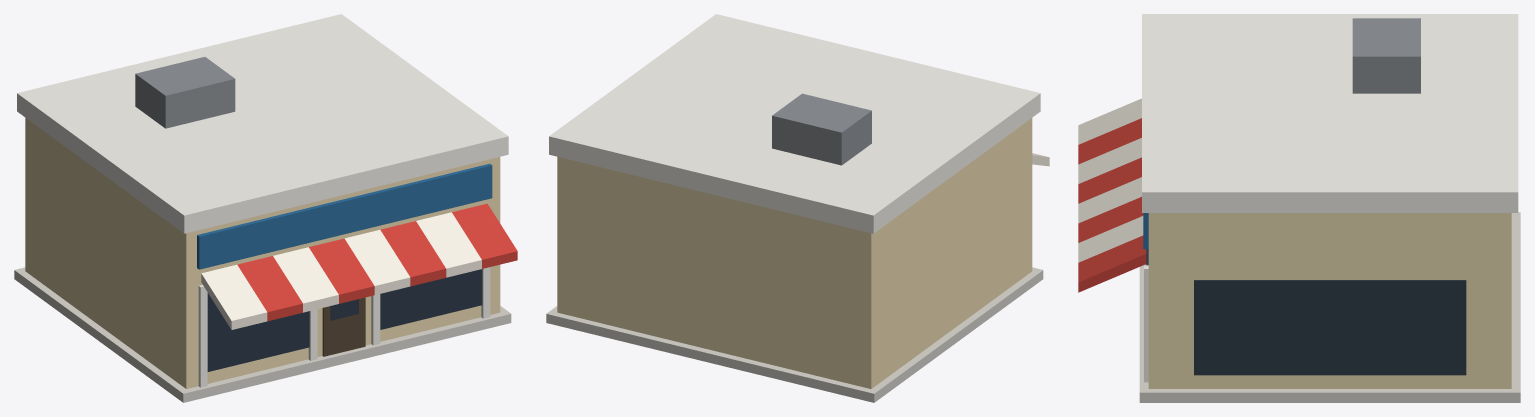
File: corner-shop.glb
3 views of the same model, side by side, from view 1: azimuth 30°, elevation 25°; view 2: azimuth 150°, elevation 25°; view 3: azimuth 270°, elevation 25° (orthographic). The views are drawn at different scales.
Visible parts, largest first — view 1: Corner_Shop; view 2: Corner_Shop; view 3: Corner_Shop.
Boxes of the visible parts, box(x1,y1,x2,y2) form: Corner_Shop: box(14, 14, 517, 402); Corner_Shop: box(546, 14, 1049, 402); Corner_Shop: box(1078, 14, 1520, 402).
Size of the model in its own units: 9.4 by 6 by 9.75.
